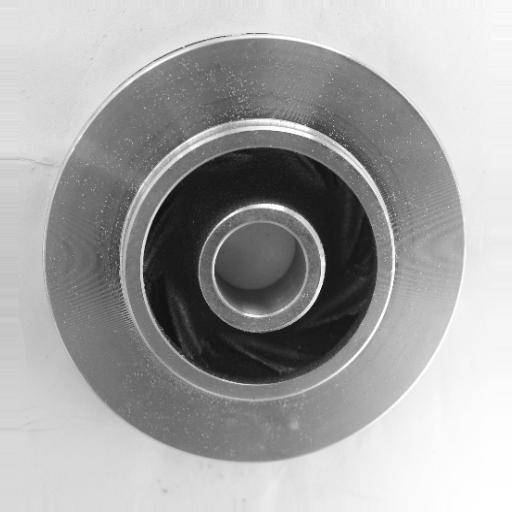polished_casting: (43, 31, 467, 470)
